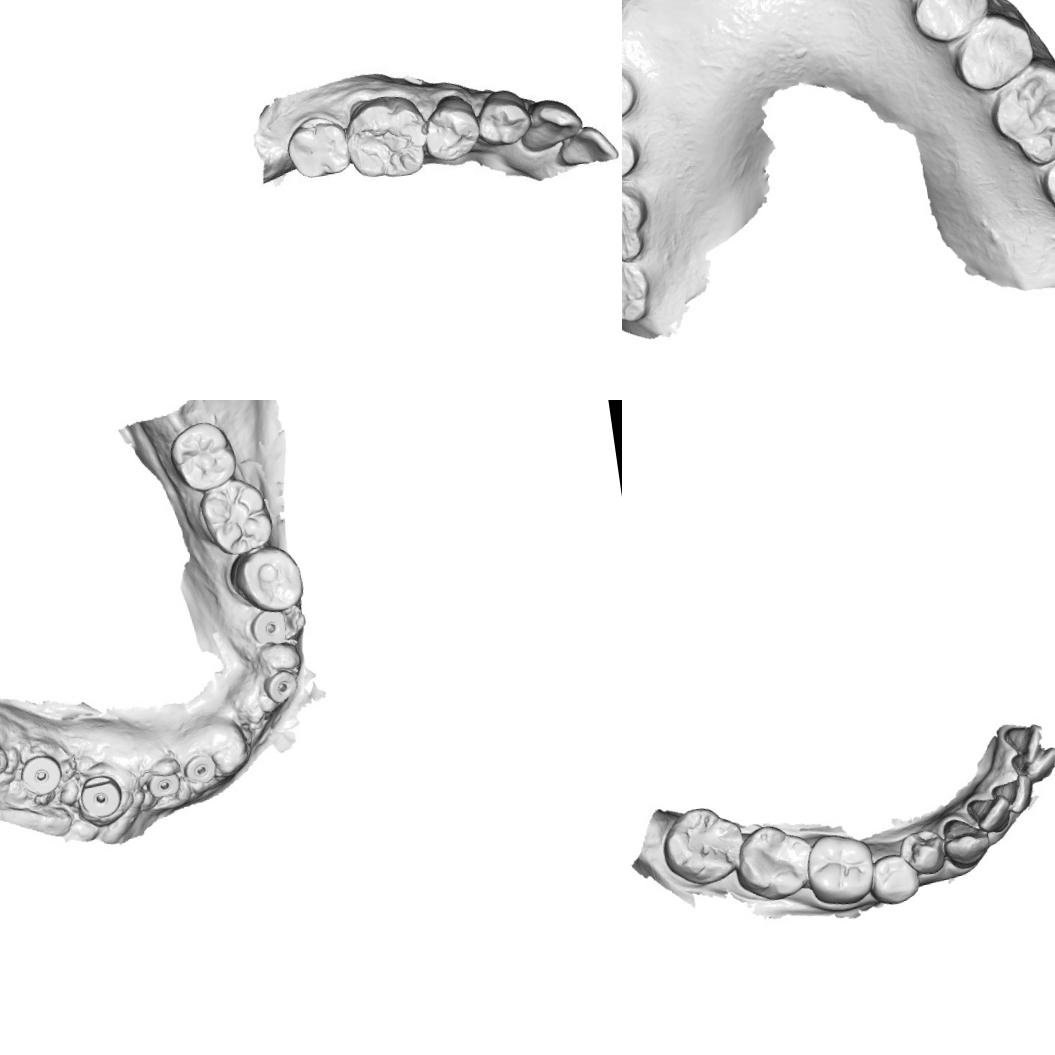canine: (519, 92, 584, 161), (937, 811, 995, 875)
implant: (76, 772, 126, 822), (19, 752, 66, 798), (181, 748, 218, 789), (262, 668, 300, 706), (250, 609, 287, 647), (147, 765, 182, 801)
incisor: (552, 125, 617, 171), (989, 771, 1038, 818), (965, 792, 1014, 837), (999, 722, 1046, 766), (1007, 746, 1055, 782)
molar: (655, 800, 752, 892), (983, 56, 1055, 174), (730, 818, 821, 906), (342, 96, 432, 178), (196, 477, 277, 559), (802, 826, 881, 910), (164, 416, 242, 492), (232, 543, 303, 617), (286, 114, 351, 178), (622, 171, 652, 270), (622, 248, 656, 328)
premolar: (948, 10, 1039, 97), (419, 96, 482, 170), (473, 84, 535, 154), (911, 0, 996, 47), (868, 850, 924, 908), (894, 825, 948, 880), (622, 114, 641, 188), (622, 54, 638, 129)
